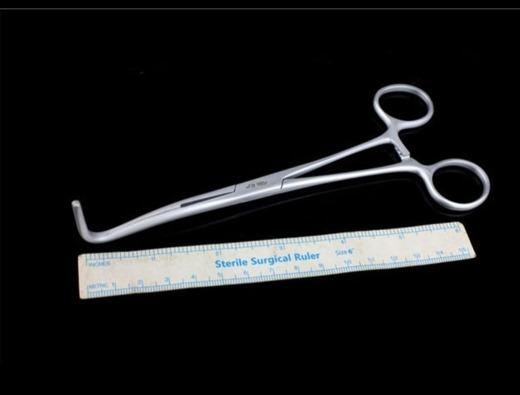Rectangle Cholecystectomy Forceps: (71, 73, 493, 245)
